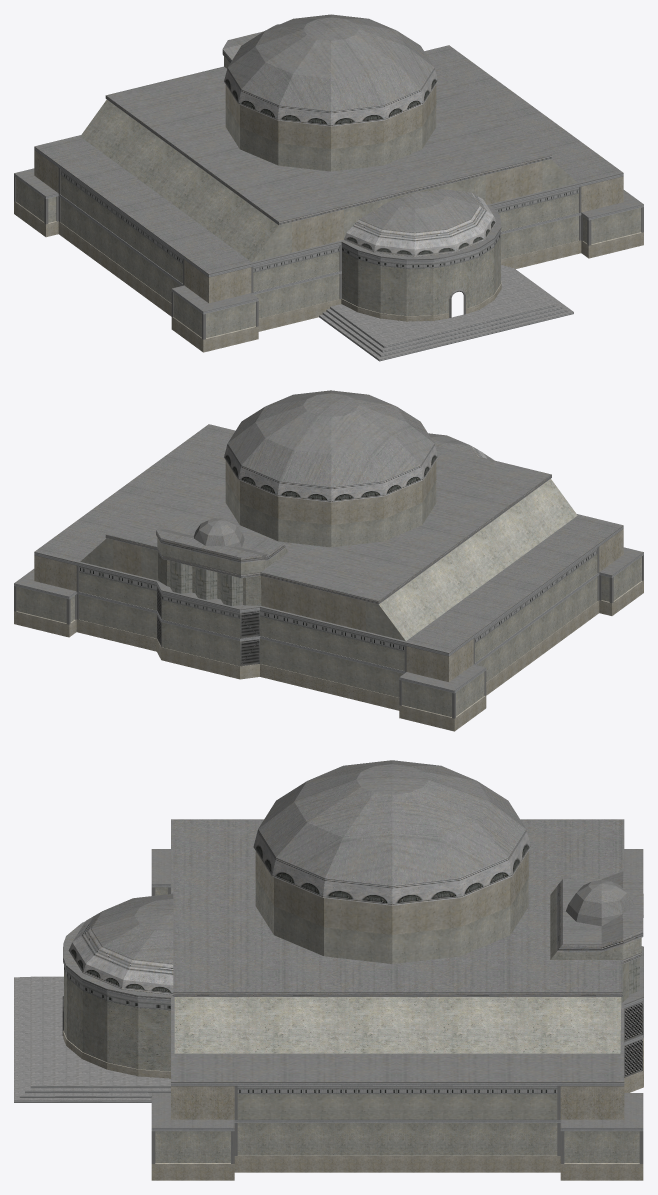
The model's file is mun_all_hotel_s01_r0_hotel_mesh_exterior_l0.fbx.
3 renders of one model, top to bottom at view 1: azimuth 30°, elevation 25°; view 2: azimuth 150°, elevation 25°; view 3: azimuth 270°, elevation 25°, orthographic. The views are drawn at different scales.
Parts seen in each view (by area): view 1: mesh_node; view 2: mesh_node; view 3: mesh_node.
Part boxes in pixels (box(x1,y1,x2,y2)): mesh_node: box(14, 14, 643, 361); mesh_node: box(14, 390, 643, 731); mesh_node: box(14, 760, 643, 1180).
Bounding box in the file's own units: 59.56 × 26.29 × 56.85.
